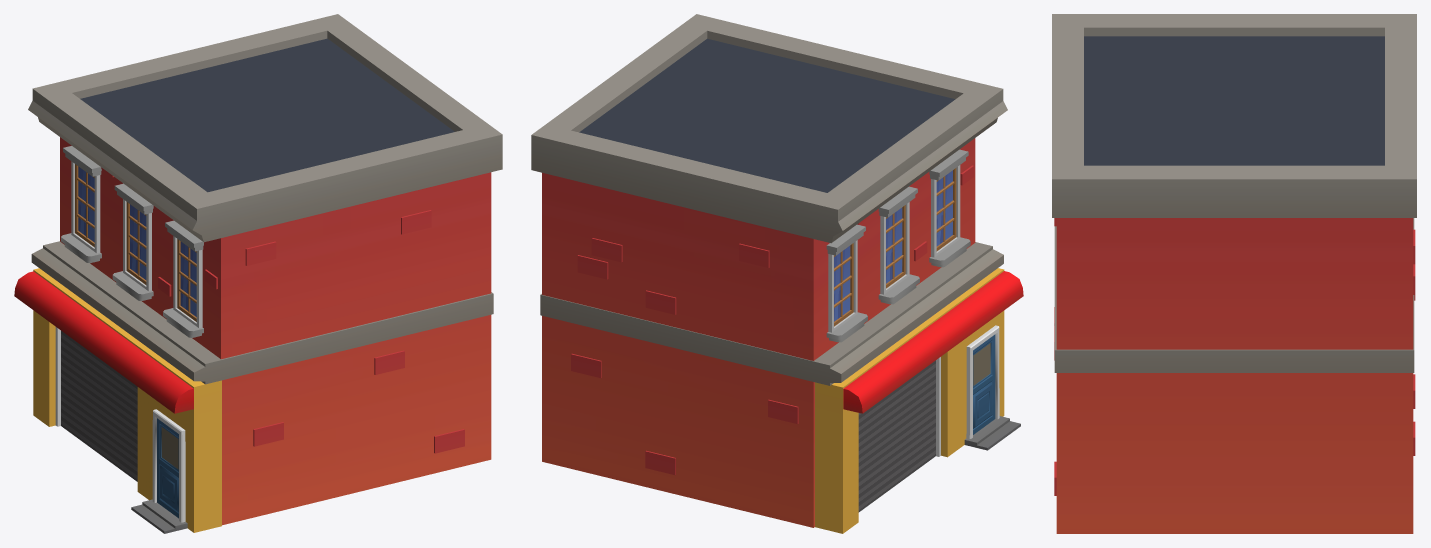
Rendered from Building_19_3_B.fbx.
3 views of the same model, side by side, from view 1: azimuth 30°, elevation 25°; view 2: azimuth 150°, elevation 25°; view 3: azimuth 270°, elevation 25° (orthographic). The views are drawn at different scales.
Parts seen in each view (by area): view 1: Building_19_3_B; view 2: Building_19_3_B; view 3: Building_19_3_B.
Part boxes in pixels (left/top/right/bottom): Building_19_3_B: left=14, top=14, right=502, bottom=533; Building_19_3_B: left=531, top=14, right=1023, bottom=533; Building_19_3_B: left=1052, top=14, right=1416, bottom=533.
Bounding box in the file's own units: 774 × 726 × 667.
